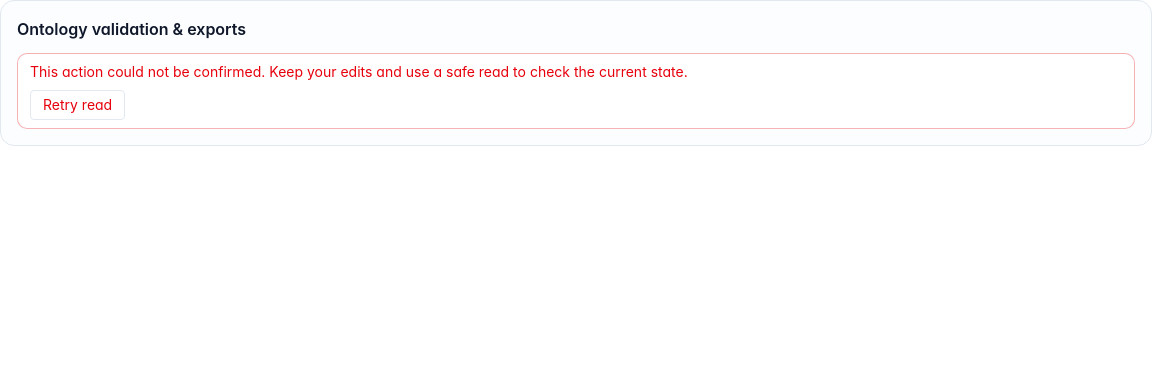
Test: never presents failed checks as passed and recovers a failed load
The width and height of the screenshot is (1152, 369).
Expected: the message is shown, [17,53,1135,129]
Click the button "Retry read": (78, 105) [30,90,125,120]
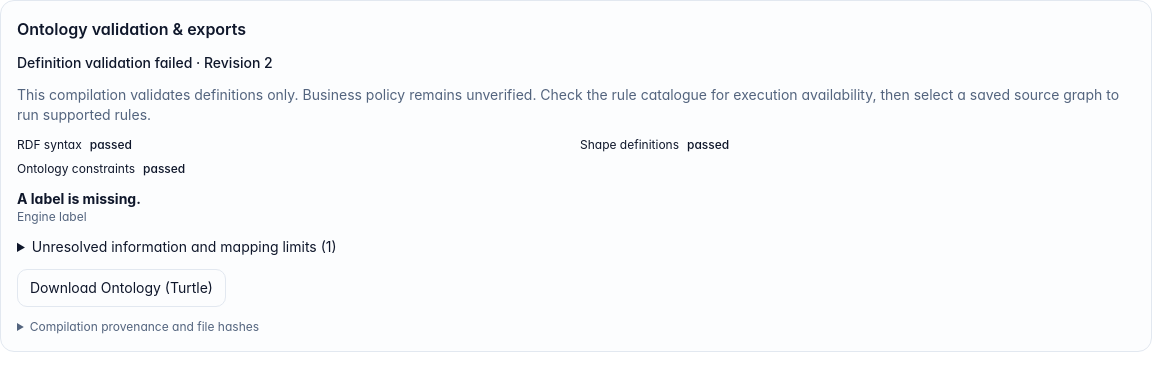
Expected: the text "Definition validation failed · Revision 2" is shown, [17,54,273,71]
Expected: the text "A label is missing." is shown, [17,190,141,207]
